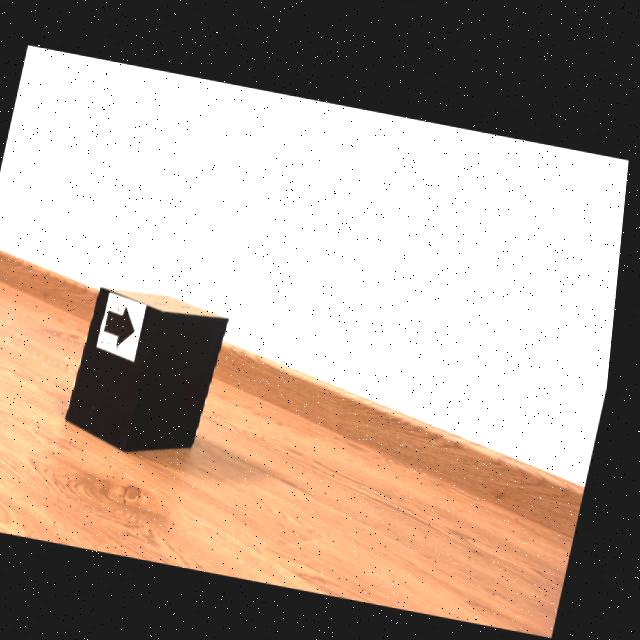RIGHT: (110, 305, 142, 344)
